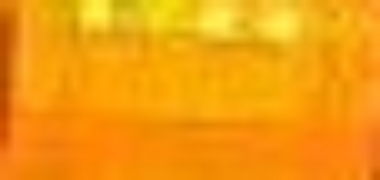Hotspot: (66, 1, 321, 44)
